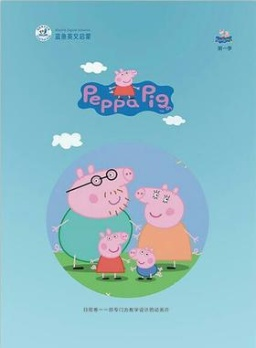Peppa: (90, 228, 132, 282)
